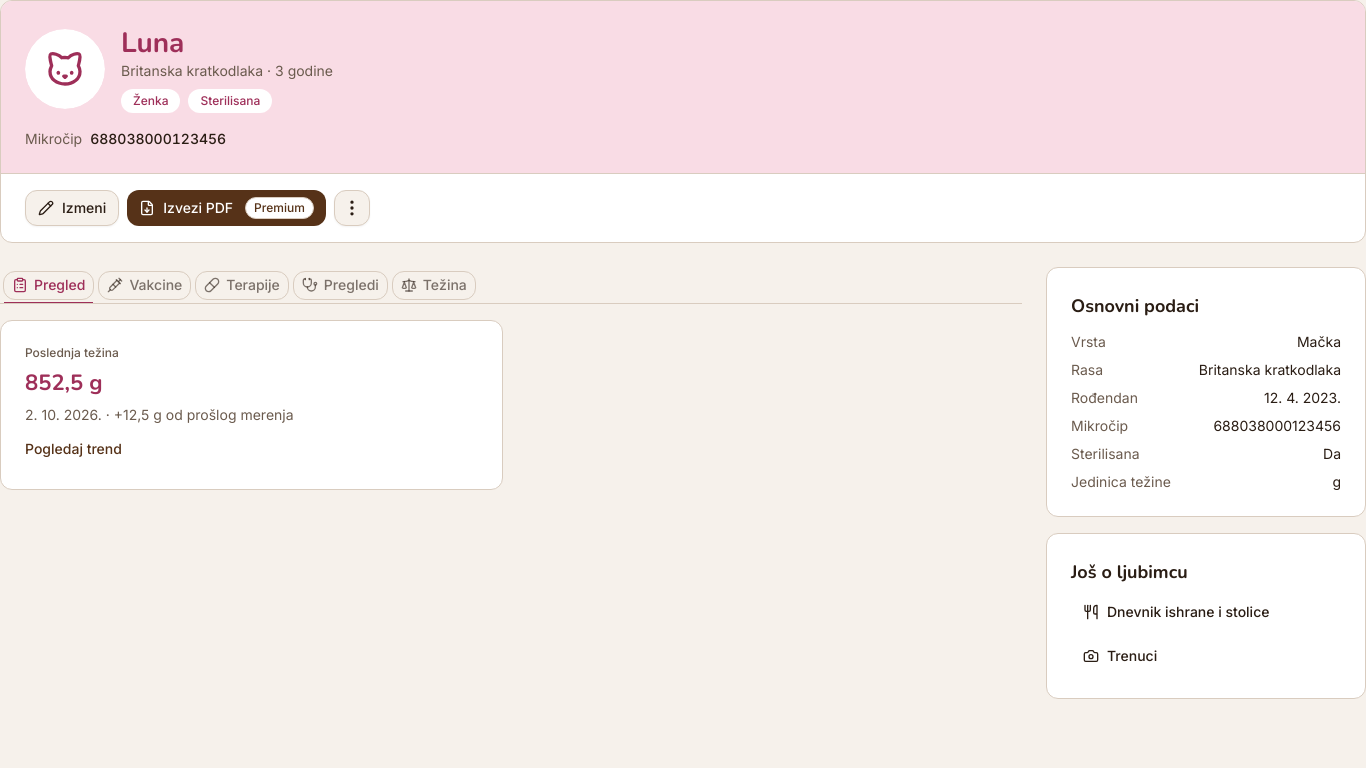
it: FR-03 — weights entered and shown in grams › shows every value in g
Click the tab "Težina": [434, 285] box [392, 270, 476, 300]
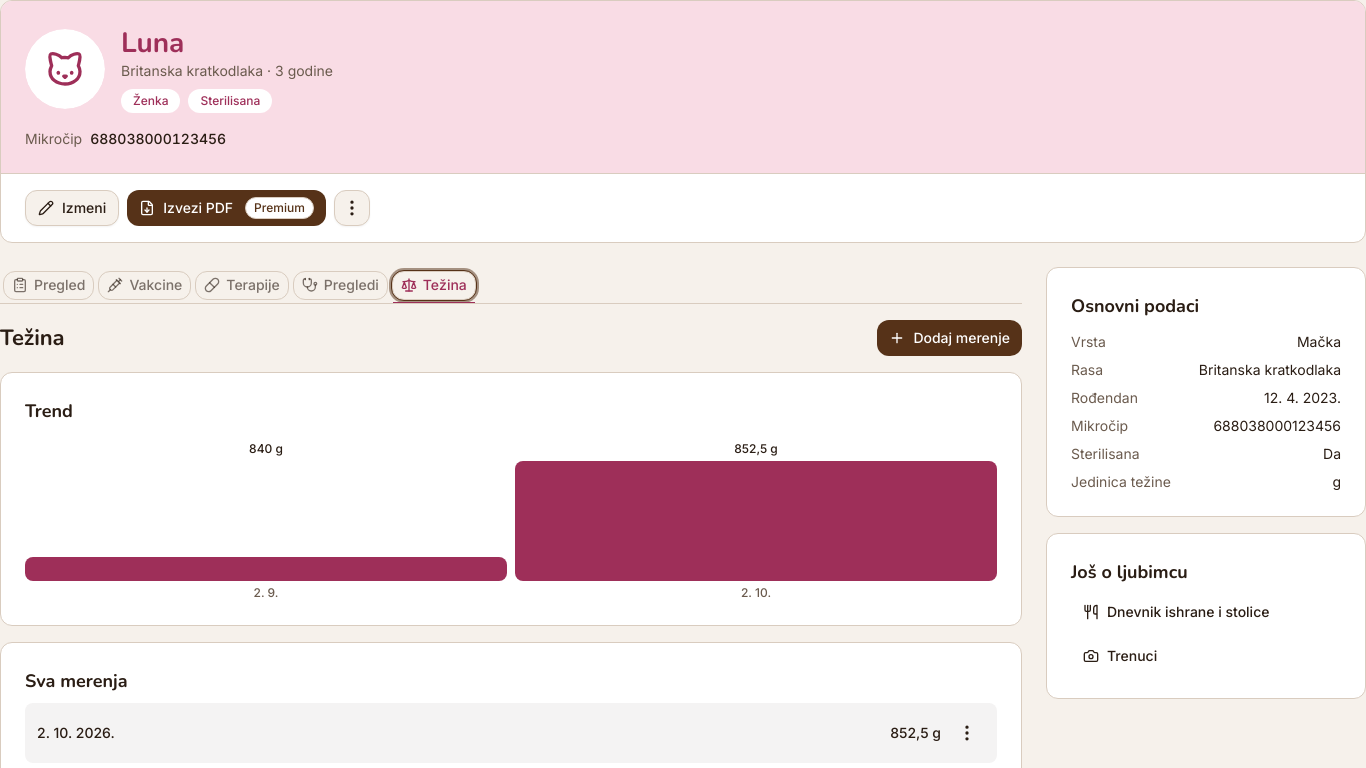
Result: the elements with test id "weight-bar" read "840 g2. 9.", "852,5 g2. 10.", in this order at [25, 441, 507, 601]; [515, 441, 997, 601]
